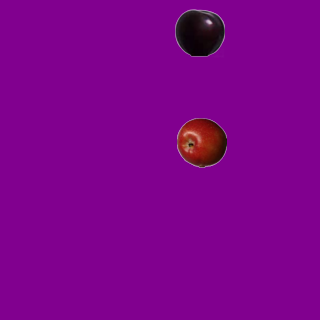Apple Braeburn: (176, 117, 226, 167)
Cherry Wax Black: (174, 7, 224, 57)
